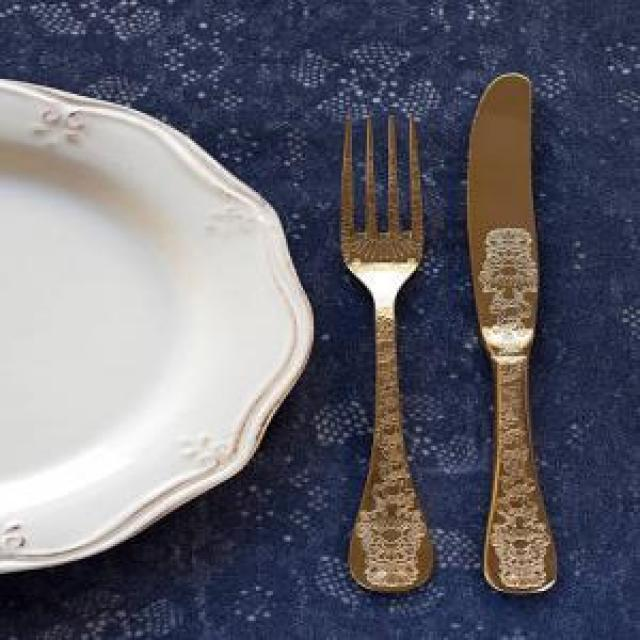knife: (463, 70, 538, 596)
